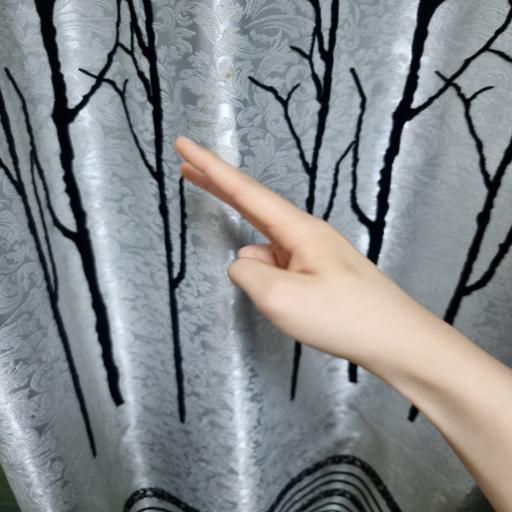Scissors: (174, 136, 436, 356)
